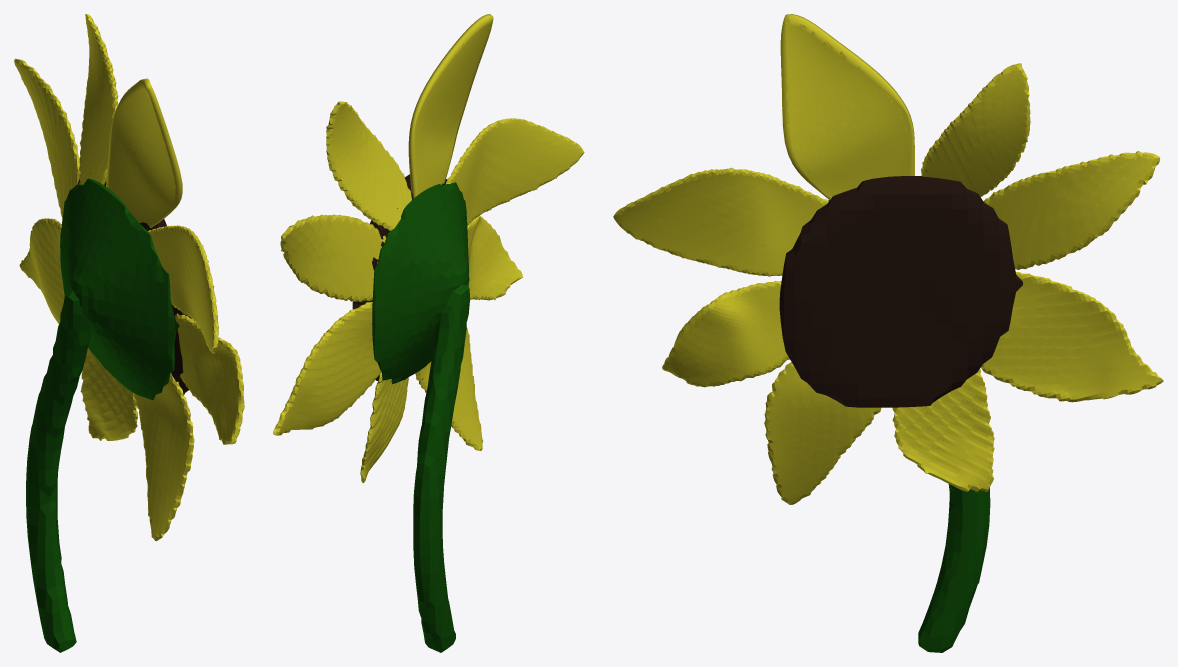
Rendered from sunflower.glb.
The picture shows the model from 3 angles, left to right: view 1: azimuth 30°, elevation 25°; view 2: azimuth 150°, elevation 25°; view 3: azimuth 270°, elevation 25°; orthographic projection. The views are drawn at different scales.
Visible parts, largest first — view 1: Cone, Cylinder, Plane.003, Plane.007, Plane.006, Plane.005, Plane.002, Plane, Plane.008, Plane.001, Plane.004, black core; view 2: Cone, Cylinder, Plane.005, Plane.001, Plane, Plane.003, Plane.002, Plane.006, Plane.008, Plane.007, Plane.004, black core; view 3: black core, Plane.005, Plane.001, Plane.003, Plane, Plane.006, Plane.007, Plane.002, Plane.008, Cylinder, Plane.004.
Boxes of the visible parts, x1,y1,x2,y2 form: Cone: (60,178,179,399); Cylinder: (26,289,91,652); Plane.003: (106,78,182,227); Plane.007: (133,373,194,541); Plane.006: (175,313,244,444); Plane.005: (148,225,218,353); Plane.002: (79,14,118,185); Plane: (14,58,80,218); Plane.008: (80,348,138,440); Plane.001: (19,218,64,323); Plane.004: (110,87,175,216); black core: (77,173,191,394); Cone: (372,182,469,383); Cylinder: (413,285,469,652); Plane.005: (446,118,584,225); Plane.001: (273,302,381,435); Plane: (280,214,386,302); Plane.003: (408,14,493,198); Plane.002: (326,101,411,230); Plane.006: (467,215,522,300); Plane.008: (360,371,408,482); Plane.007: (415,327,482,450); Plane.004: (416,23,489,187); black core: (352,174,447,380); black core: (779,176,1022,407); Plane.005: (613,167,828,276); Plane.001: (981,272,1163,402); Plane.003: (780,14,914,200); Plane: (984,151,1160,269); Plane.006: (662,280,789,387); Plane.007: (764,362,881,504); Plane.002: (921,63,1030,196); Plane.008: (892,369,994,492); Cylinder: (918,484,990,652); Plane.004: (785,18,910,195).
Size of the model in its own units: 0.9954 by 6.3 by 4.85.
